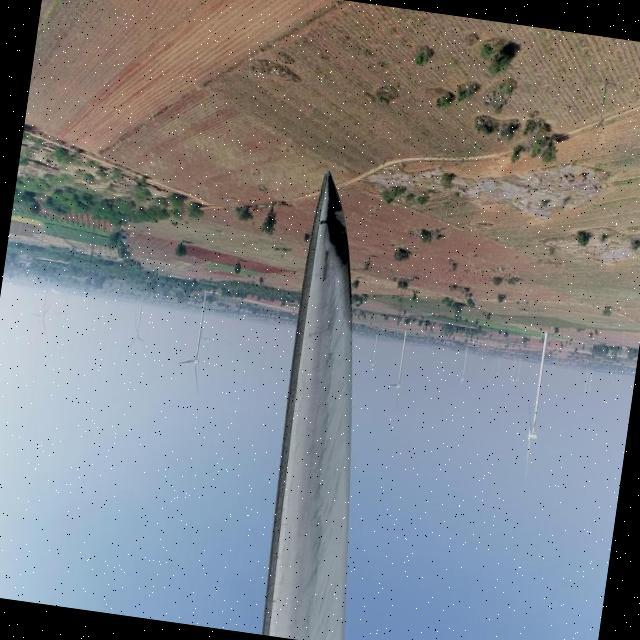Dirt: (273, 175, 345, 639)
Oil LEAKAGE: (325, 172, 357, 312)
Pin Hole: (318, 218, 328, 228)
